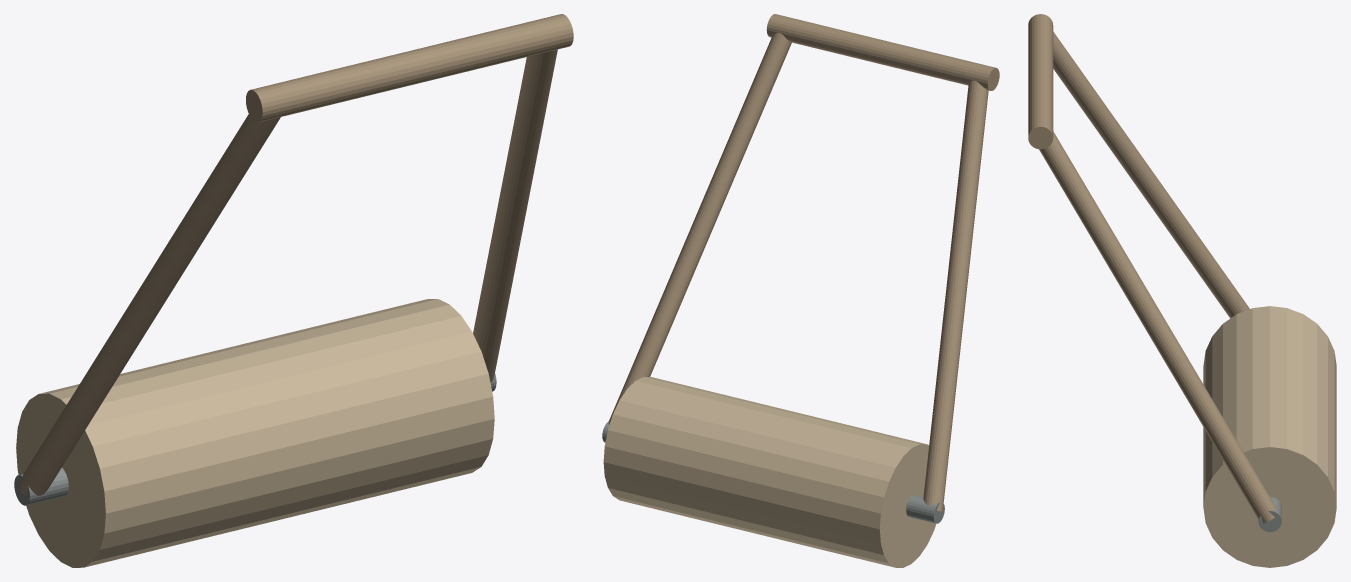
Rendered from coastal-saltworks-and-trade-port-coastal-saltworks-and-8c3196e9__31383.glb.
The picture shows the model from 3 angles, left to right: view 1: azimuth 30°, elevation 25°; view 2: azimuth 150°, elevation 25°; view 3: azimuth 270°, elevation 25°; orthographic projection. The views are drawn at different scales.
Visible parts, largest first — view 1: coastal-saltworks-and-trade-port-basin-leveling-roller; view 2: coastal-saltworks-and-trade-port-basin-leveling-roller; view 3: coastal-saltworks-and-trade-port-basin-leveling-roller.
Boxes of the visible parts, left/top/right/bottom form: coastal-saltworks-and-trade-port-basin-leveling-roller: left=14, top=14, right=573, bottom=567; coastal-saltworks-and-trade-port-basin-leveling-roller: left=602, top=14, right=999, bottom=567; coastal-saltworks-and-trade-port-basin-leveling-roller: left=1028, top=14, right=1336, bottom=567.
Size of the model in its own units: 0.9713 by 1.13 by 0.74.
